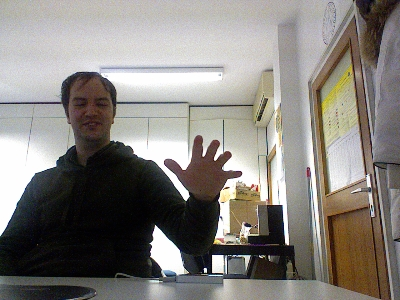布: (161, 132, 242, 200)
